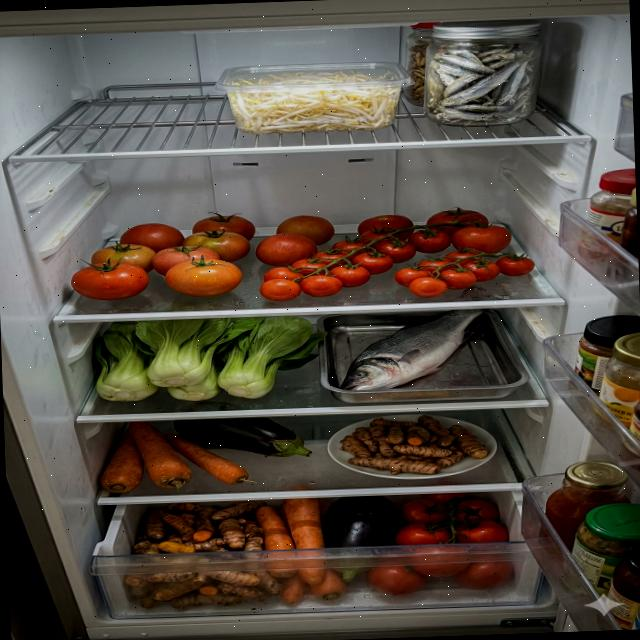anchovies: (424, 41, 538, 122)
bean_sprouts: (228, 68, 400, 134)
carrot: (96, 417, 250, 493), (254, 497, 346, 606)
eggplant: (322, 494, 402, 582), (172, 415, 312, 461)
fish: (337, 308, 493, 391)
pakchoy: (91, 314, 330, 404)
tomato: (254, 204, 536, 304), (68, 210, 257, 302), (362, 490, 516, 597)
turmeric: (121, 500, 282, 612), (338, 412, 490, 478)
